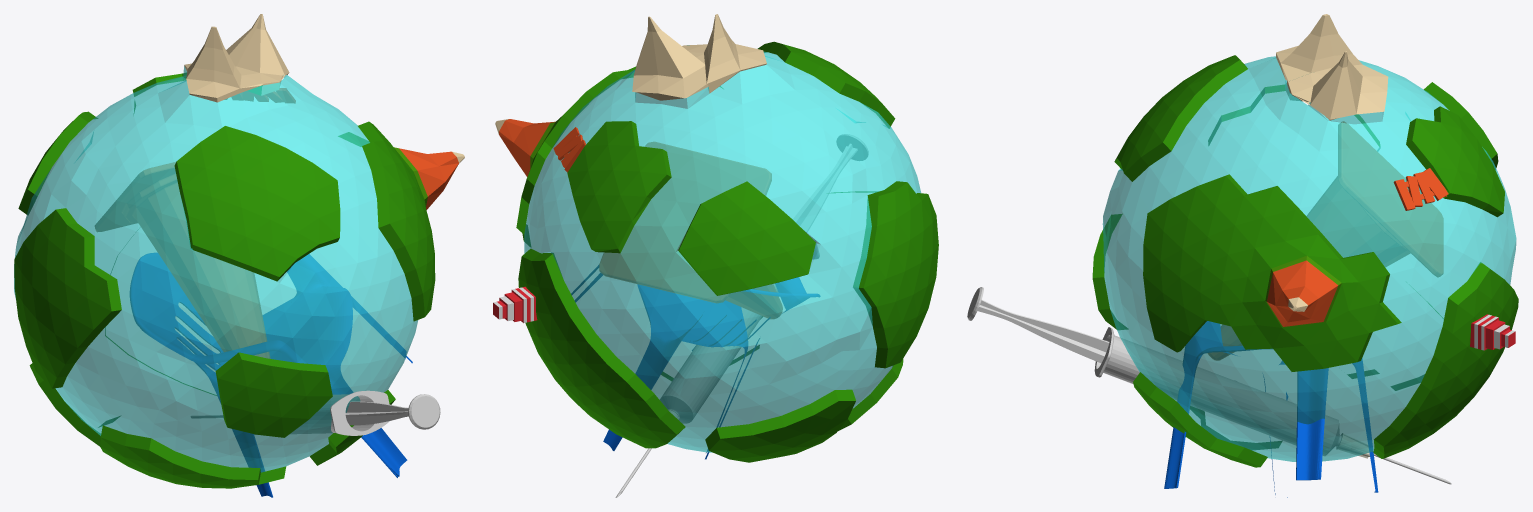
Rendered from world_04.glb.
3 renders of one model, left to right at view 1: azimuth 30°, elevation 25°; view 2: azimuth 150°, elevation 25°; view 3: azimuth 270°, elevation 25°, orthographic.
Parts seen in each view (by area): view 1: World, 03_Chair, 04_Cone, 01_Syringe; view 2: World, 04_Cone, 03_Chair, 01_Syringe; view 3: World, 04_Cone, 01_Syringe, 03_Chair.
Boxes of the visible parts, x1,y1,x2,y2 form: World: (14,14,464,488); 03_Chair: (130,253,412,497); 04_Cone: (95,162,270,358); 01_Syringe: (191,390,440,435); World: (493,14,938,462); 04_Cone: (599,142,782,318); 03_Chair: (571,265,820,459); 01_Syringe: (615,134,868,497); World: (1092,14,1518,467); 04_Cone: (1208,121,1443,360); 01_Syringe: (967,287,1451,484); 03_Chair: (1164,321,1378,497).
Size of what is drawn, in the model's own units: 2.41 by 2.53 by 2.69.
